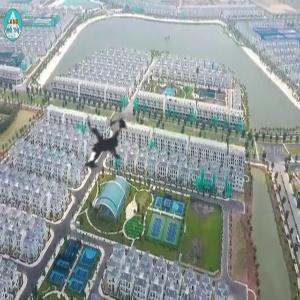drone: (41, 85, 162, 206)
